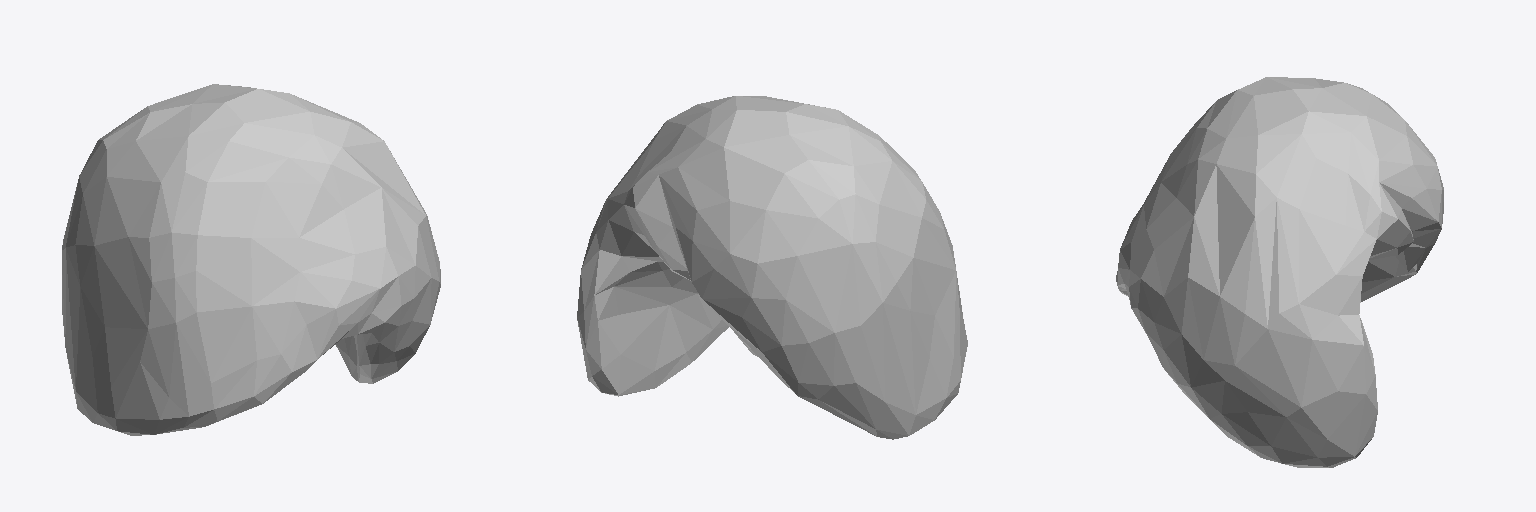
Rendered from foie_tres_deforme.obj.
3 views of the same model, side by side, from view 1: azimuth 30°, elevation 25°; view 2: azimuth 150°, elevation 25°; view 3: azimuth 270°, elevation 25° (orthographic).
Bounding box in the file's own units: 5.34 × 4.69 × 4.51.